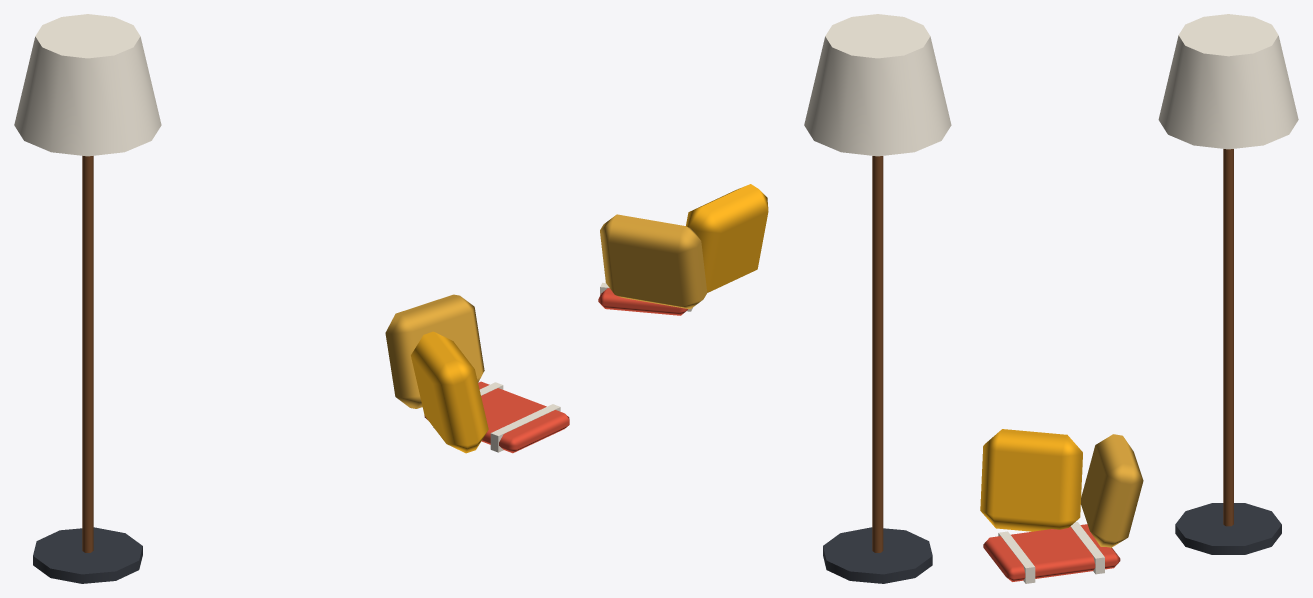
File: station_special_ausstattung_2_2.glb
The picture shows the model from 3 angles, left to right: view 1: azimuth 30°, elevation 25°; view 2: azimuth 150°, elevation 25°; view 3: azimuth 270°, elevation 25°; orthographic projection. The views are drawn at different scales.
Parts seen in each view (by area): view 1: station_special_ausstattung_2_2; view 2: station_special_ausstattung_2_2; view 3: station_special_ausstattung_2_2.
Boxes of the visible parts, left/top/right/bottom form: station_special_ausstattung_2_2: left=14, top=14, right=569, bottom=583; station_special_ausstattung_2_2: left=598, top=14, right=951, bottom=583; station_special_ausstattung_2_2: left=980, top=14, right=1298, bottom=583.
Size of the model in its own units: 1.42 by 1.65 by 0.9541.
